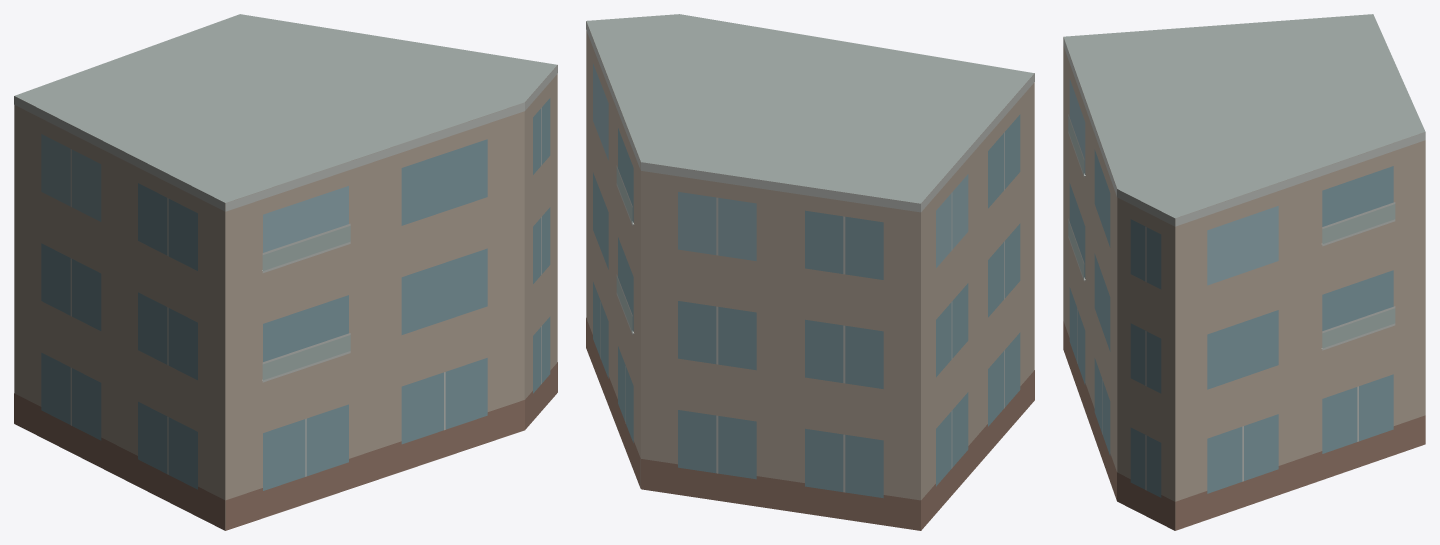
Rendered from survey-upis-32710194.glb.
The picture shows the model from 3 angles, left to right: view 1: azimuth 30°, elevation 25°; view 2: azimuth 150°, elevation 25°; view 3: azimuth 270°, elevation 25°; orthographic projection. The views are drawn at different scales.
Visible parts, largest first — view 1: survey-upis-32710194.tmp; view 2: survey-upis-32710194.tmp; view 3: survey-upis-32710194.tmp.
Boxes of the visible parts, left/top/right/bottom form: survey-upis-32710194.tmp: left=14, top=14, right=557, bottom=530; survey-upis-32710194.tmp: left=586, top=14, right=1034, bottom=530; survey-upis-32710194.tmp: left=1063, top=14, right=1425, bottom=530.
Bounding box in the file's own units: 12.84 × 9.15 × 9.62.
